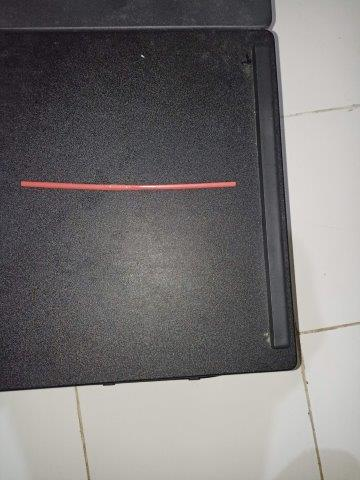sedotan: (21, 180, 236, 191)
